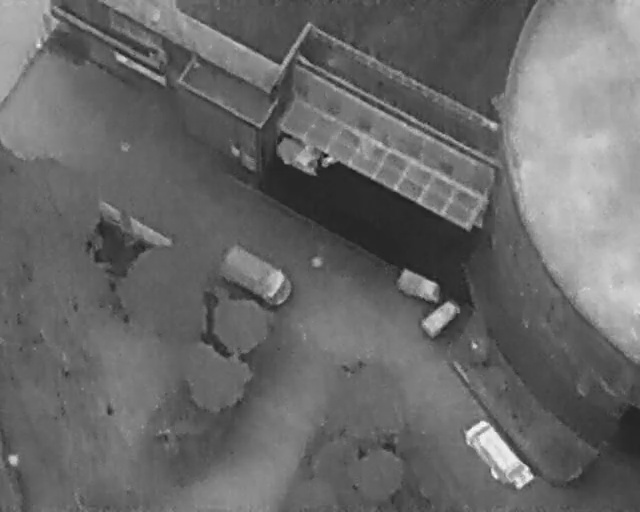Car: (215, 239, 300, 312), (459, 417, 535, 496), (416, 296, 466, 343), (394, 265, 446, 308)
